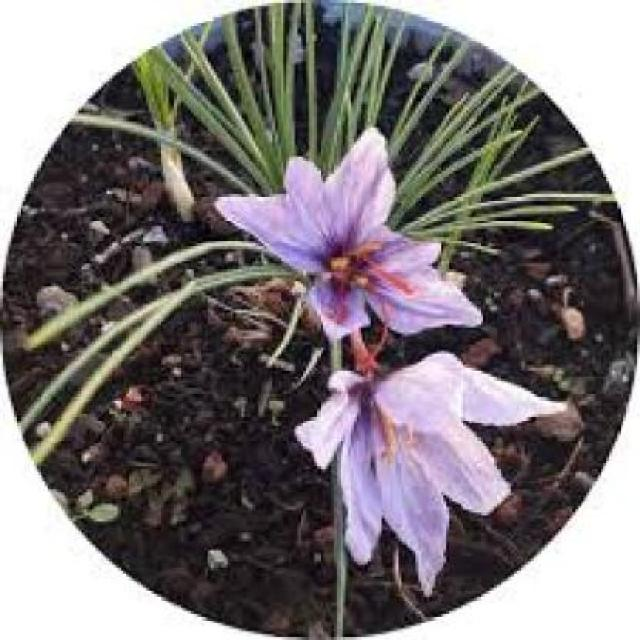saffron open: (296, 352, 564, 595), (218, 132, 480, 339)
